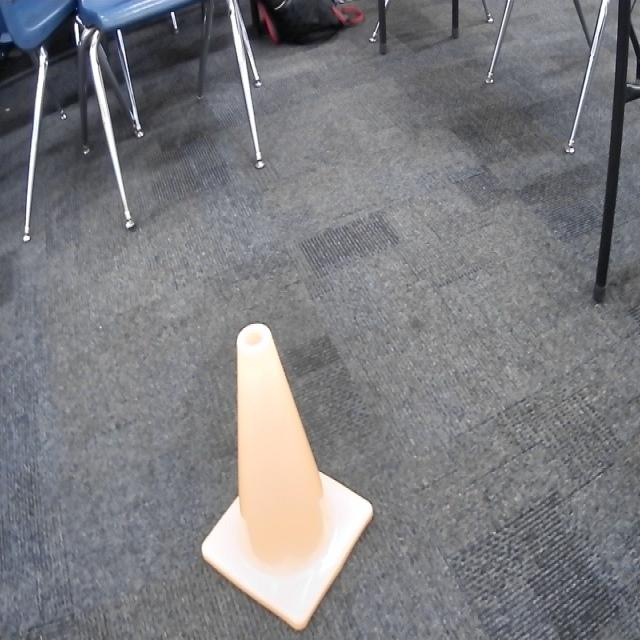cone: (201, 321, 374, 640)
